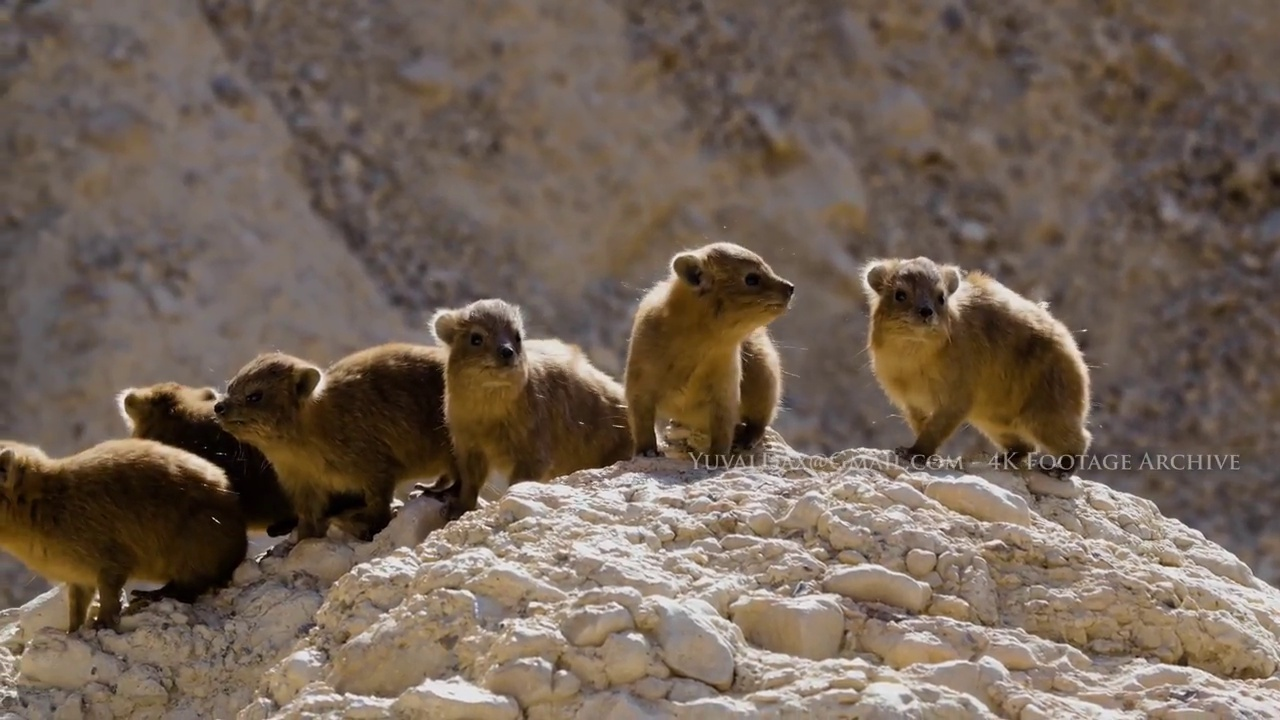Rock Hyrex: (857, 255, 1093, 490), (209, 339, 453, 563), (428, 294, 644, 521), (1, 437, 250, 629), (621, 239, 798, 490), (111, 384, 307, 539)
